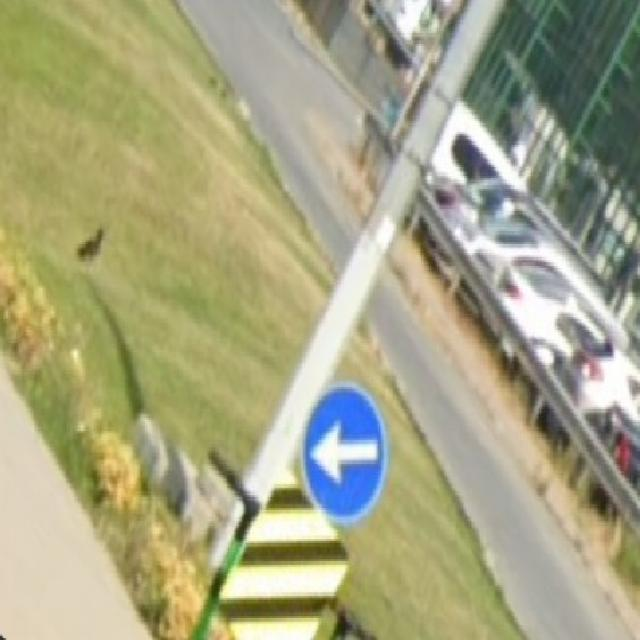Turn Left: (304, 390, 389, 522)
